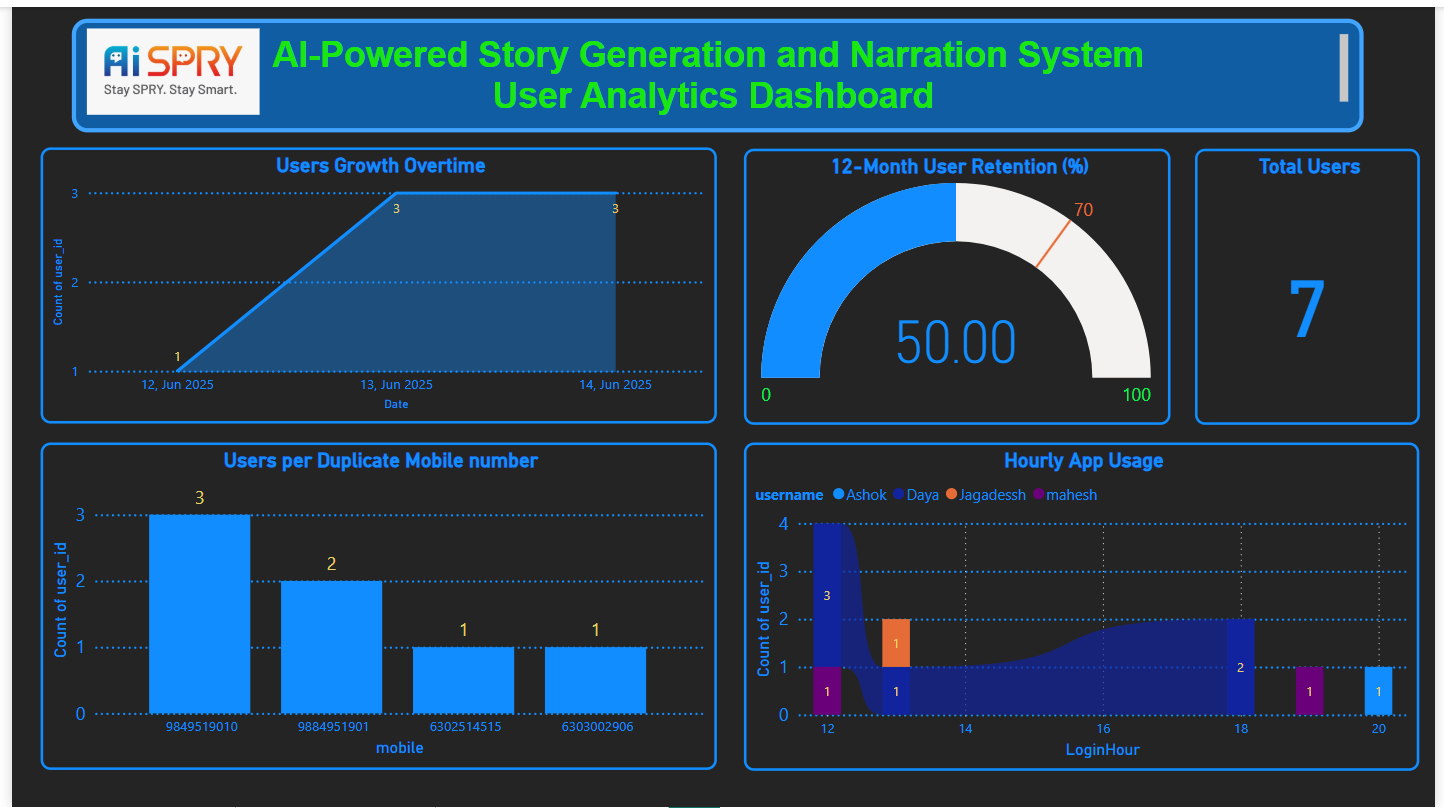

Layout of this report page (visuals, bound fields, positions):
{"tool":"powerbi","page":{"name":"User_Analytics_Dashboard","canvas":[1280,720],"ordinal":0},"visuals":[{"type":"textbox","box":[53.2,10.1,1162.3,102.7],"z":0},{"type":"image","box":[62.2,5.2,165.9,107.6],"z":1000},{"type":"areaChart","title":"Users Growth Overtime","fields":{"Category":["user_analytics_table.Date"],"Y":["CountNonNull(user_analytics_table.user_id)"]},"box":[26.2,126.6,608.3,248.6],"z":2000},{"type":"card","title":"Total Users","fields":{"Values":["CountNonNull(user_analytics_table.user_id)"]},"box":[1064,127,202.2,248.8],"z":3000},{"type":"columnChart","title":"Users per Duplicate Mobile number","fields":{"Category":["user_analytics_table.mobile"],"Y":["CountNonNull(user_analytics_table.user_id)"]},"box":[26.2,392.1,608.3,294.9],"z":5000},{"type":"ribbonChart","title":"Hourly App Usage","fields":{"Category":["login_df.LoginHour"],"Series":["login_df.username"],"Y":["CountNonNull(login_df.user_id)"]},"box":[658.4,391.4,607.8,295.5],"z":6000},{"type":"gauge","title":"12-Month User Retention (%)","fields":{"MaxValue":["RetentionMapping.maxgauge"],"MinValue":["RetentionMapping.mingauge"],"TargetValue":["RetentionMapping.target"],"Y":["RetentionMapping.Retention1MonthPercent"]},"box":[658.4,127,383.6,248.8],"z":8000}]}

Visuals, with their boxes in screenshot pixels (x1, y1, x2, y2), scaled from the page's 1280x720 canvas onto the 1444x808 screenshot:
textbox: [left=60, top=11, right=1371, bottom=127]
image: [left=70, top=6, right=257, bottom=127]
"Users Growth Overtime" areaChart: [left=30, top=142, right=716, bottom=421]
"Total Users" card: [left=1200, top=143, right=1428, bottom=422]
"Users per Duplicate Mobile number" columnChart: [left=30, top=440, right=716, bottom=771]
"Hourly App Usage" ribbonChart: [left=743, top=439, right=1428, bottom=771]
"12-Month User Retention (%)" gauge: [left=743, top=143, right=1176, bottom=422]
